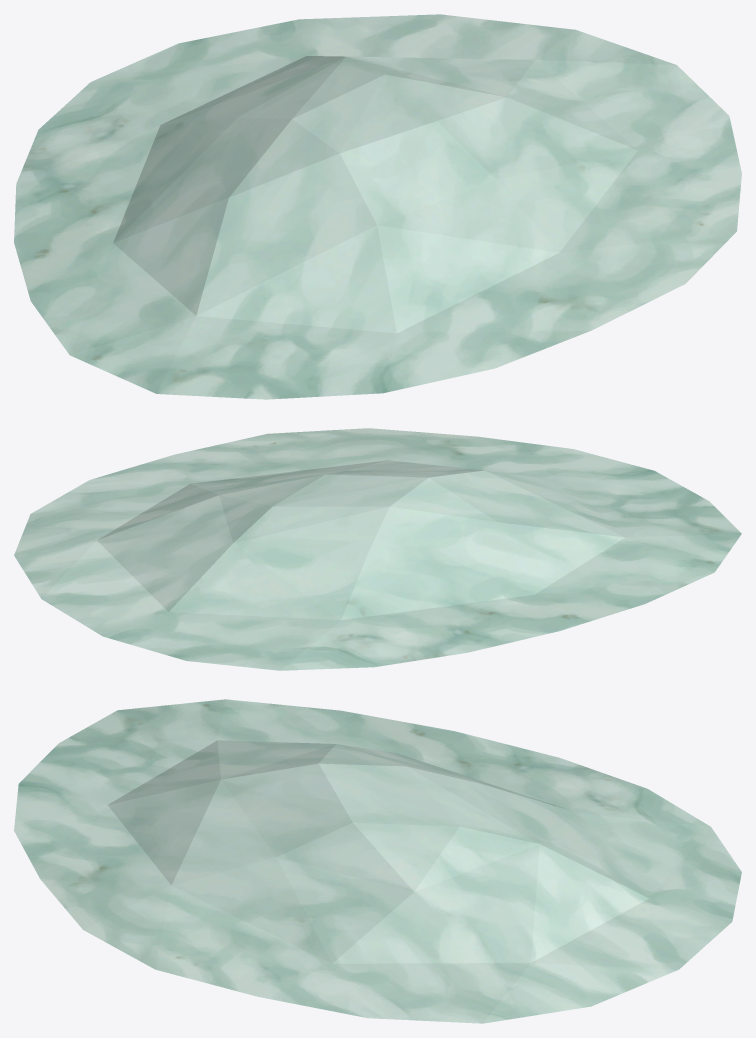
Rendered from small_hill01.fbx.
3 renders of one model, top to bottom at view 1: azimuth 30°, elevation 25°; view 2: azimuth 150°, elevation 25°; view 3: azimuth 270°, elevation 25°, orthographic. The views are drawn at different scales.
Visible parts, largest first — view 1: obj0.009; view 2: obj0.009; view 3: obj0.009.
Part boxes in pixels (x1,y1,x2,y2): obj0.009: (14, 14, 741, 399); obj0.009: (14, 428, 741, 670); obj0.009: (14, 699, 741, 1023).
Bounding box in the file's own units: 12.66 × 1.36 × 12.01.
